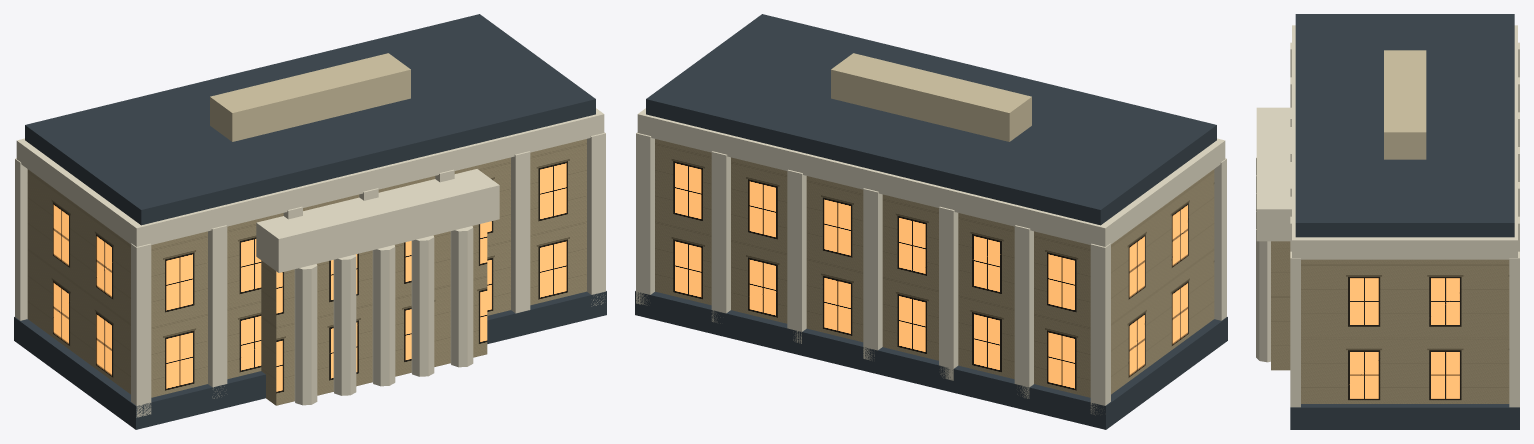
The model's file is mariinsky.glb.
The picture shows the model from 3 angles, left to right: view 1: azimuth 30°, elevation 25°; view 2: azimuth 150°, elevation 25°; view 3: azimuth 270°, elevation 25°; orthographic projection. The views are drawn at different scales.
Visible parts, largest first — view 1: mariinsky; view 2: mariinsky; view 3: mariinsky.
Part boxes in pixels (x1,y1,x2,y2): mariinsky: (14,14,606,429); mariinsky: (635,14,1227,429); mariinsky: (1256,14,1519,429).
Bounding box in the file's own units: 14.5 × 7.2 × 7.47.
Materials: 4 (1 with a texture image).
